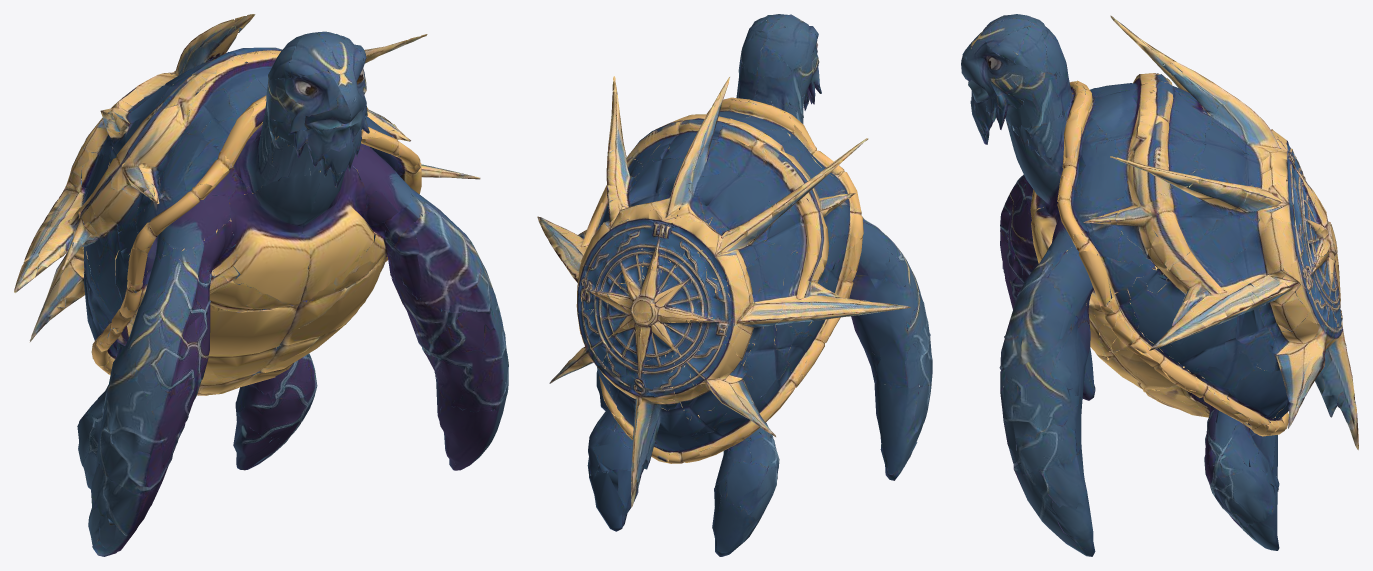
The picture shows the model from 3 angles, left to right: view 1: azimuth 30°, elevation 25°; view 2: azimuth 150°, elevation 25°; view 3: azimuth 270°, elevation 25°; orthographic projection. The views are drawn at different scales.
Parts seen in each view (by area): view 1: Mesh_0; view 2: Mesh_0; view 3: Mesh_0.
Part boxes in pixels (bbox=[...]): Mesh_0: bbox=[14, 14, 508, 556]; Mesh_0: bbox=[537, 14, 932, 556]; Mesh_0: bbox=[961, 14, 1358, 556].
Size of the model in its own units: 1.44 by 1.64 by 1.17.
Materials: 1 (1 with a texture image).
